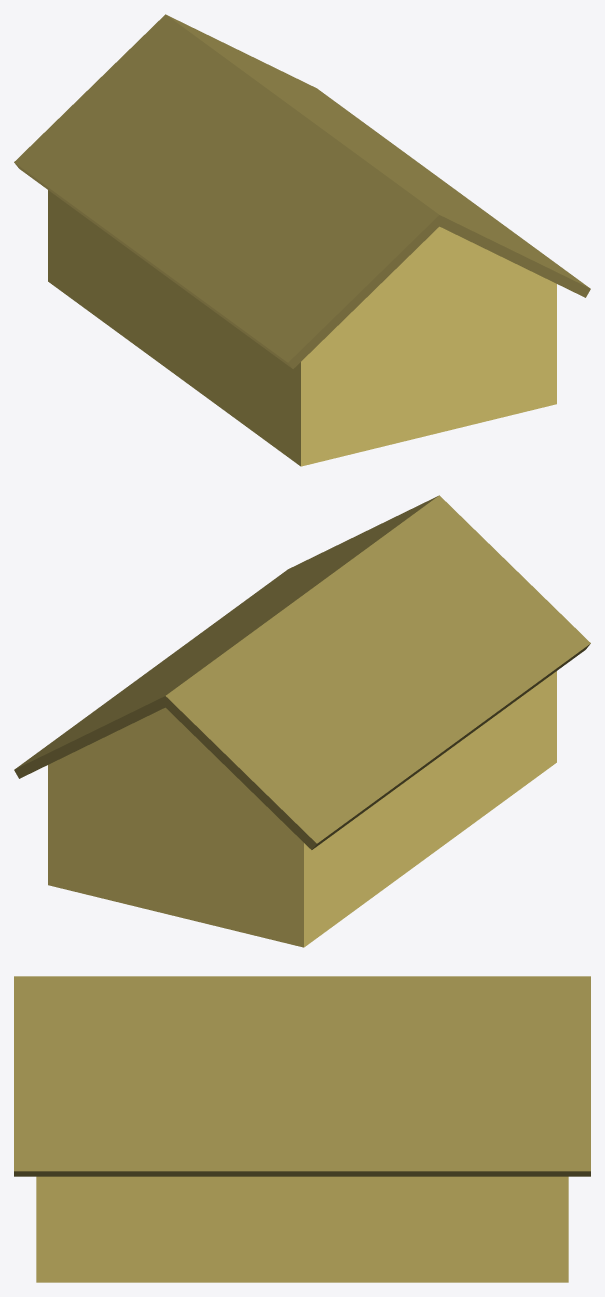
Rendered from result.glb.
3 views of the same model, one above another, from view 1: azimuth 30°, elevation 25°; view 2: azimuth 150°, elevation 25°; view 3: azimuth 270°, elevation 25° (orthographic). The views are drawn at different scales.
Parts seen in each view (by area): view 1: 5fba73f8-5964-44b6-86c1-336c92648fab__undefined (×2), 525fd1b8-657b-4f56-bd05-22253820652e__undefined; view 2: 5fba73f8-5964-44b6-86c1-336c92648fab__undefined (×2), 525fd1b8-657b-4f56-bd05-22253820652e__undefined; view 3: 5fba73f8-5964-44b6-86c1-336c92648fab__undefined, 525fd1b8-657b-4f56-bd05-22253820652e__undefined.
Part boxes in pixels (x1,y1,x2,y2): 5fba73f8-5964-44b6-86c1-336c92648fab__undefined (×2): [14, 14, 590, 368]; 525fd1b8-657b-4f56-bd05-22253820652e__undefined: [48, 190, 556, 466]; 5fba73f8-5964-44b6-86c1-336c92648fab__undefined (×2): [14, 495, 590, 849]; 525fd1b8-657b-4f56-bd05-22253820652e__undefined: [48, 671, 556, 947]; 5fba73f8-5964-44b6-86c1-336c92648fab__undefined: [14, 976, 590, 1176]; 525fd1b8-657b-4f56-bd05-22253820652e__undefined: [36, 1176, 568, 1282].
Size of the model in its own units: 831 by 598 by 1301.
